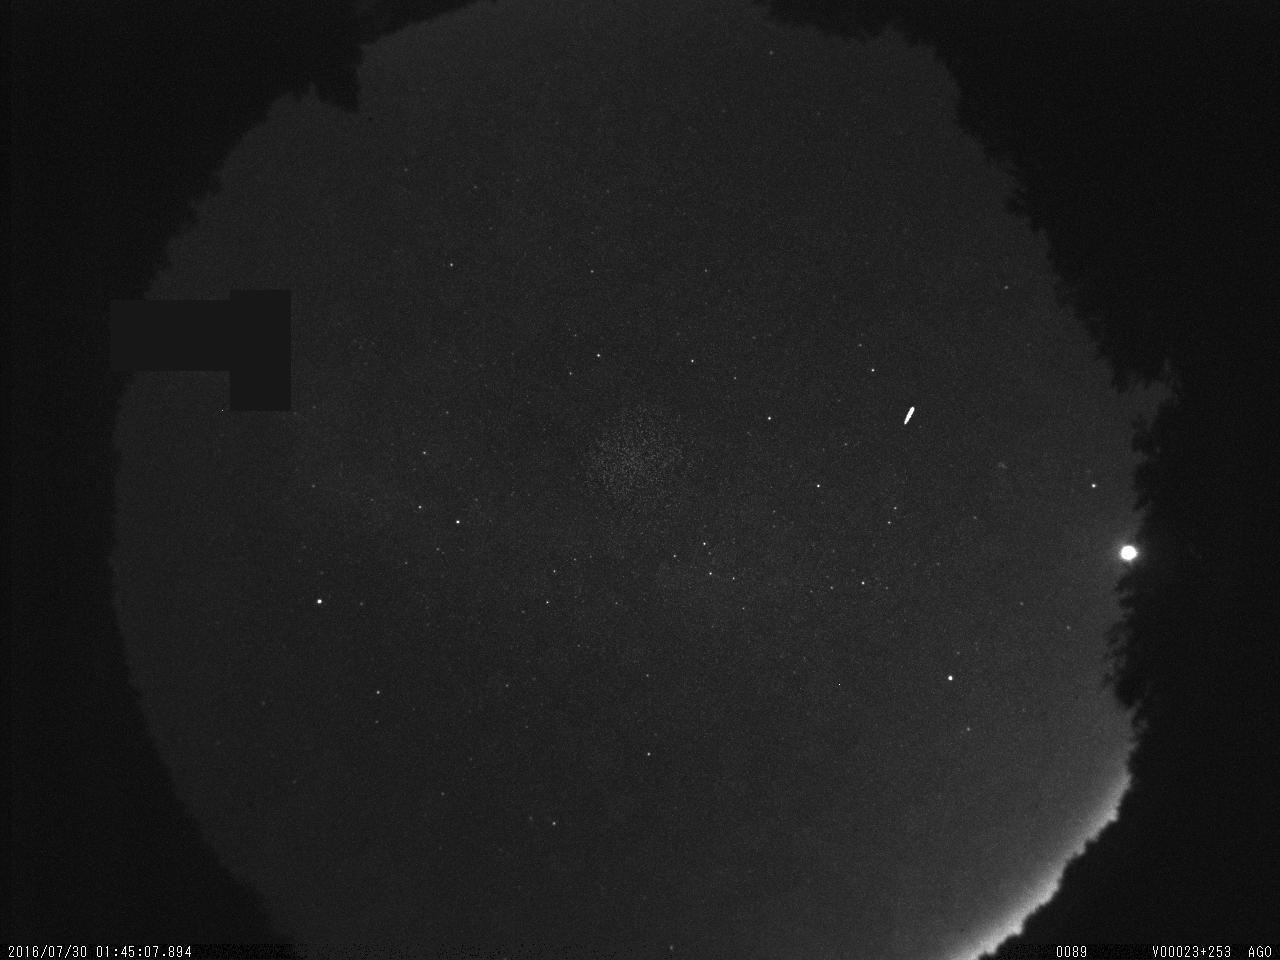Meteor: (896, 395, 922, 439)
